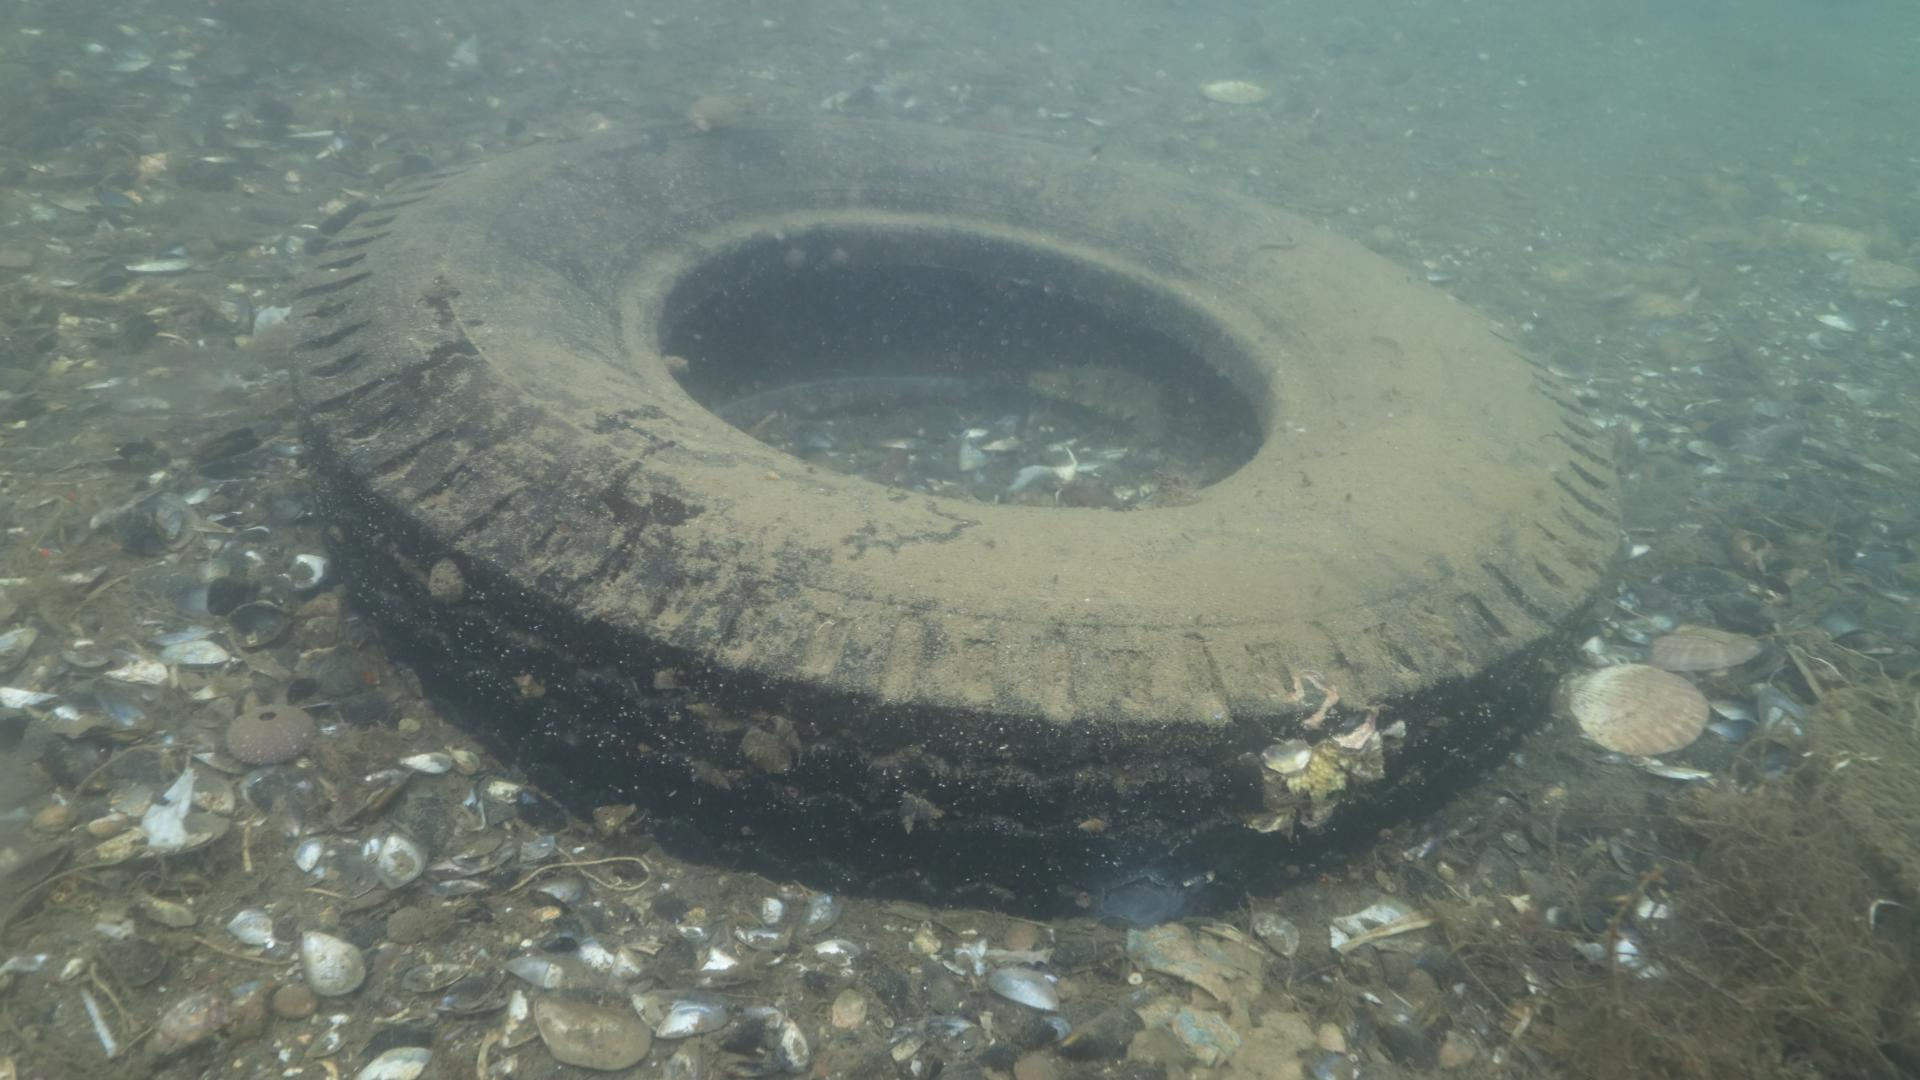tire: (294, 108, 1629, 927)
